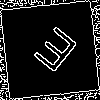E: (25, 25, 80, 82)
